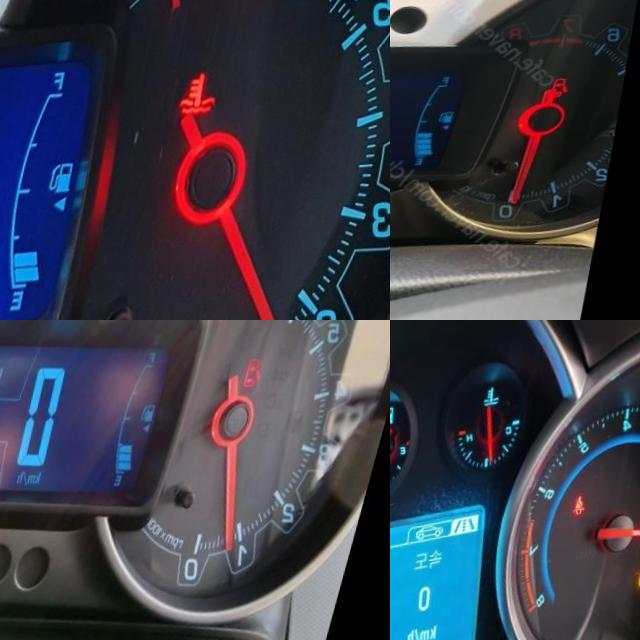Doors: (256, 364, 279, 398), (560, 89, 580, 110)
Engine cooling system: (191, 75, 233, 121)
